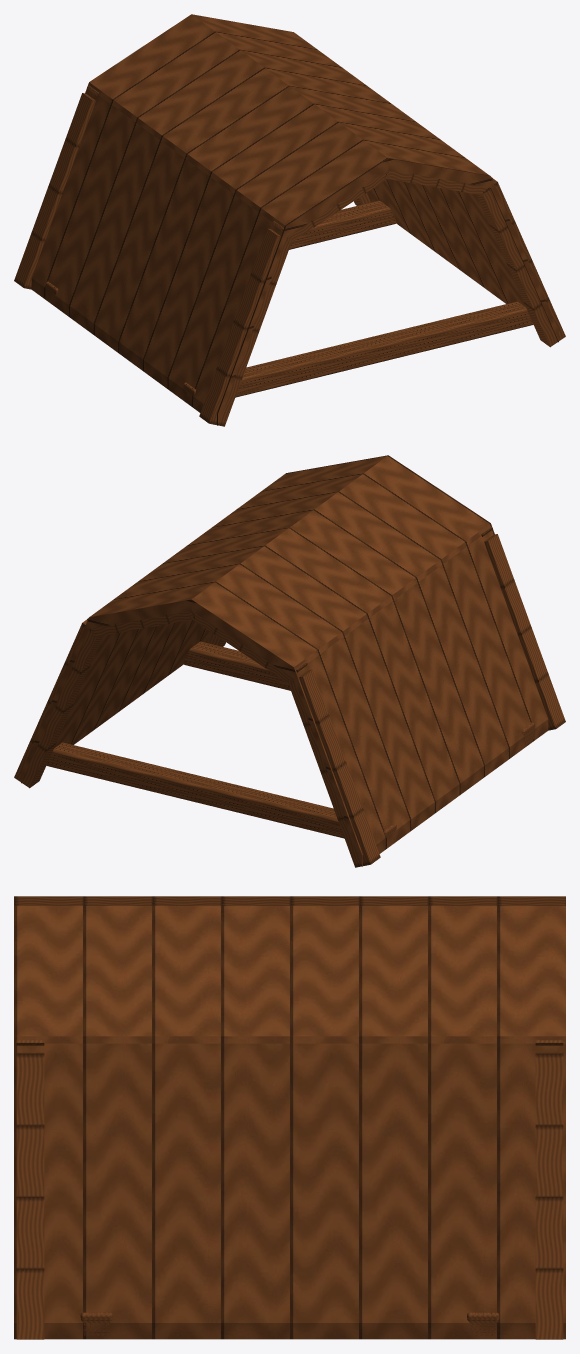
The model's file is rural-scavenging-settlements-barn-mansard-roof-34cb3c49__26496.glb.
3 renders of one model, top to bottom at view 1: azimuth 30°, elevation 25°; view 2: azimuth 150°, elevation 25°; view 3: azimuth 270°, elevation 25°, orthographic. The views are drawn at different scales.
Parts seen in each view (by area): view 1: barn-mansard-roof; view 2: barn-mansard-roof; view 3: barn-mansard-roof.
Boxes of the visible parts, x1,y1,x2,y2 form: barn-mansard-roof: (14, 14, 565, 426); barn-mansard-roof: (14, 455, 565, 867); barn-mansard-roof: (14, 896, 565, 1339).
Size of the model in its own units: 2.09 by 1.28 by 2.
1 material, 1 textured.
